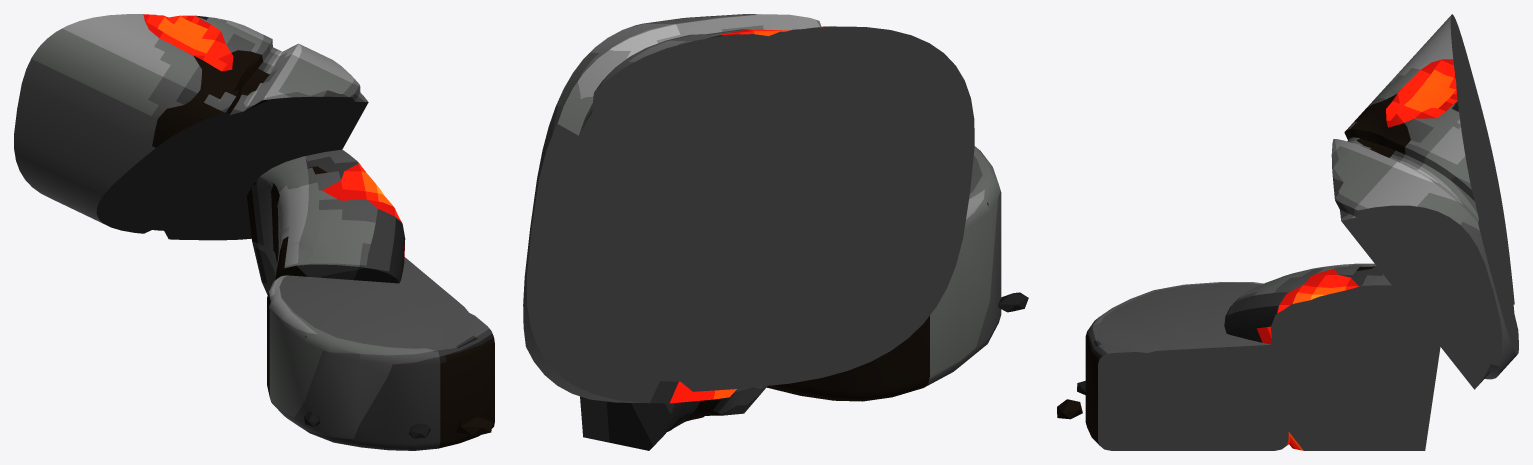
File: field_gun_breech_wreck.glb
3 views of the same model, side by side, from view 1: azimuth 30°, elevation 25°; view 2: azimuth 150°, elevation 25°; view 3: azimuth 270°, elevation 25° (orthographic). The views are drawn at different scales.
Parts seen in each view (by area): view 1: field_gun_breech_wreck; view 2: field_gun_breech_wreck; view 3: field_gun_breech_wreck.
Boxes of the visible parts, x1,y1,x2,y2 form: field_gun_breech_wreck: [14, 14, 494, 450]; field_gun_breech_wreck: [523, 14, 1028, 450]; field_gun_breech_wreck: [1057, 14, 1518, 450].
Bounding box in the file's own units: 17.16 × 19.4 × 25.16.
